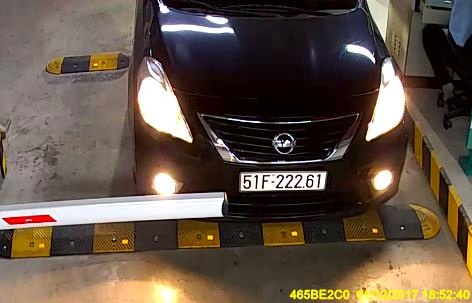plate: (236, 166, 328, 196)
